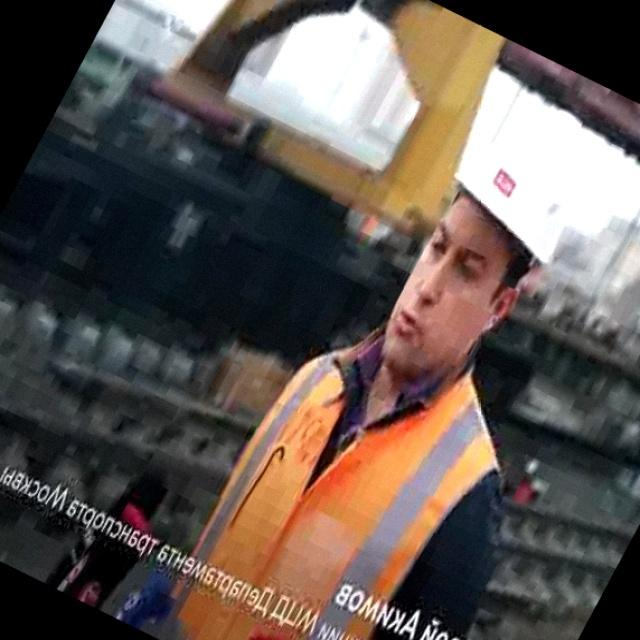Capacete: (455, 153, 563, 263)
Colete: (178, 355, 497, 639)
Pessoa: (180, 159, 556, 639)
